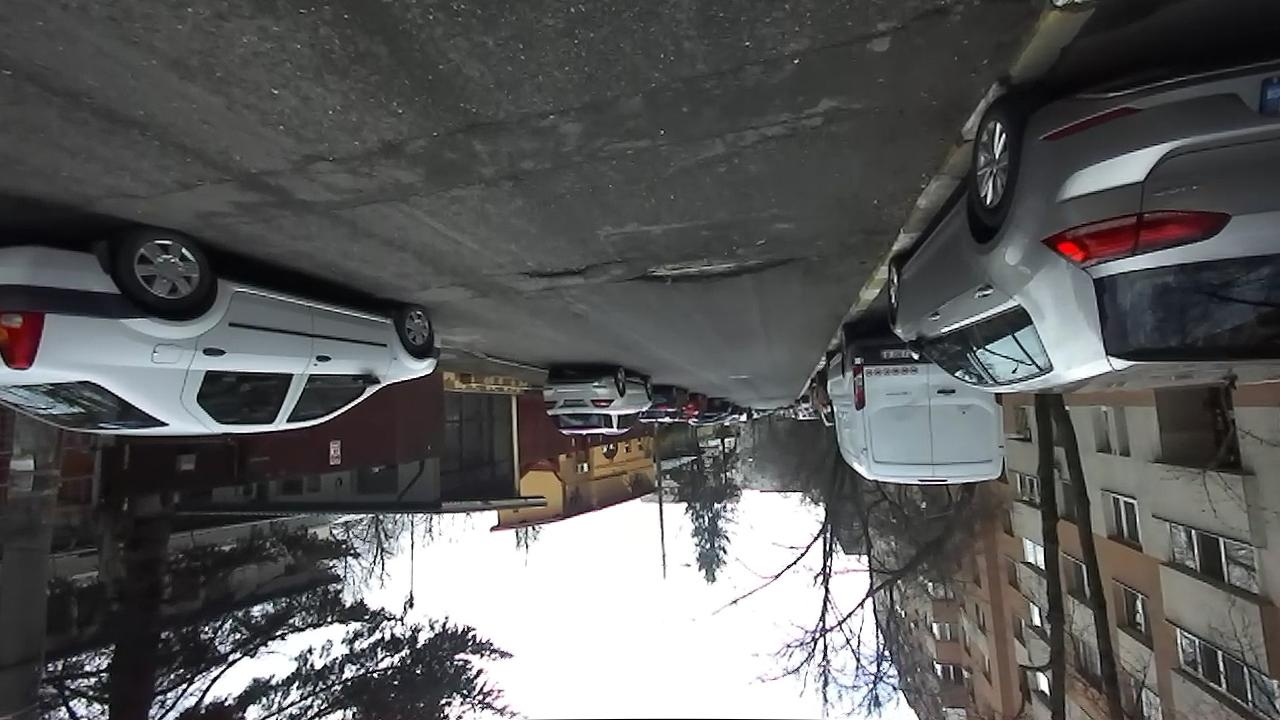pothole: (627, 249, 801, 288), (514, 259, 599, 281)
